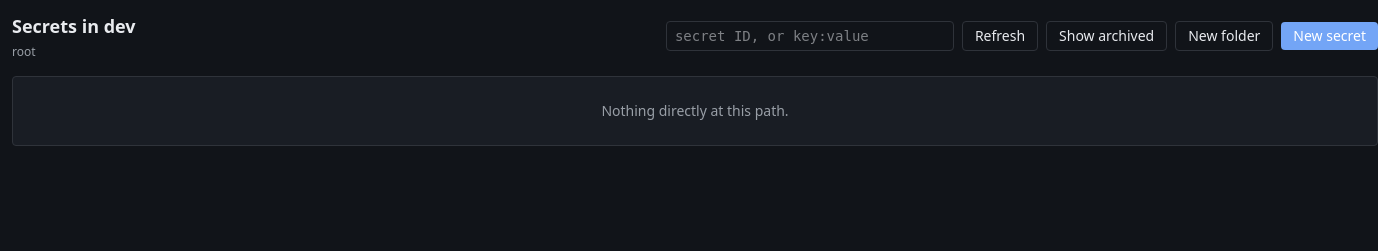
Test: SecretsCatalog folder prefix › explains that an empty folder is not persisted
Click the button "New folder" at (1224, 36), box [1175,21,1273,51]
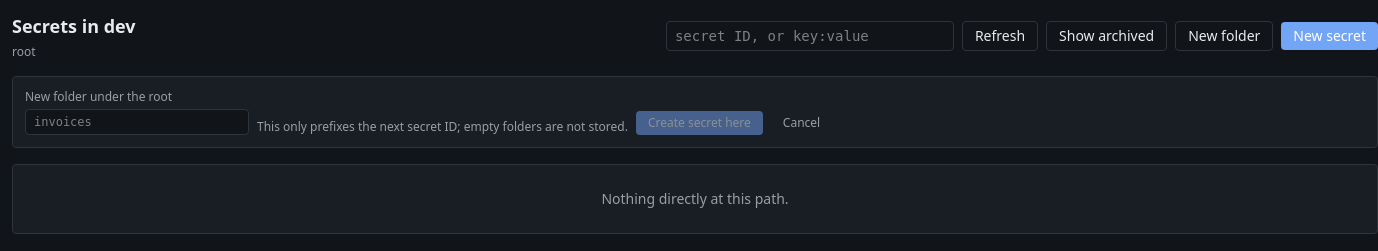
Check: the text "empty folders are not stored" is shown, box [257,118,628,135]
